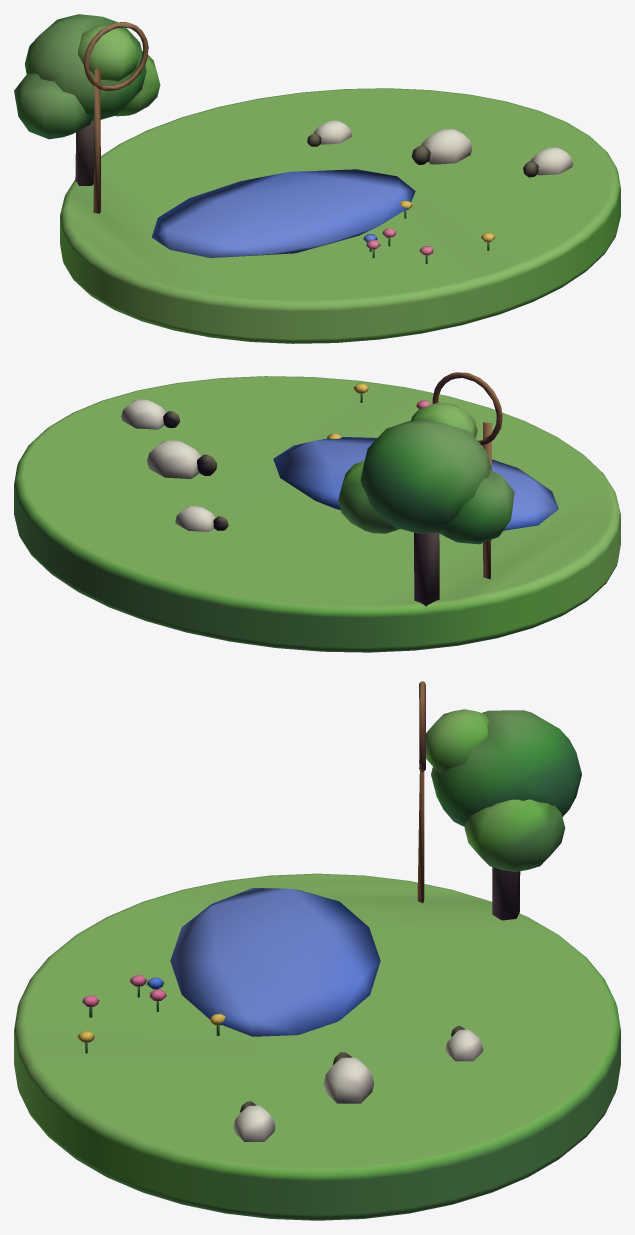
File: pasture.glb
3 views of the same model, one above another, from view 1: azimuth 30°, elevation 25°; view 2: azimuth 150°, elevation 25°; view 3: azimuth 270°, elevation 25° (orthographic). The views are drawn at different scales.
Parts seen in each view (by area): view 1: pasture; view 2: pasture; view 3: pasture.
Boxes of the visible parts, x1=… form: pasture: x1=14, y1=14, x2=620, y2=343; pasture: x1=14, y1=372, x2=620, y2=652; pasture: x1=14, y1=681, x2=620, y2=1220.
Bounding box in the file's own units: 6.8 × 2.93 × 5.78.
